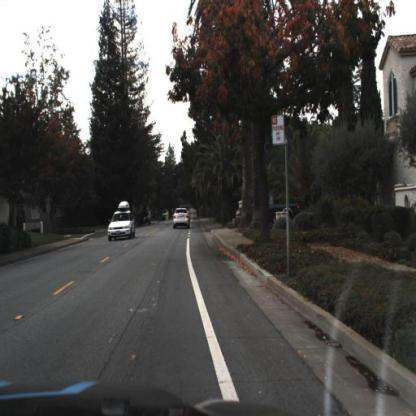car: (233, 193, 300, 227), (106, 199, 136, 243), (169, 205, 192, 230), (138, 206, 154, 228)
